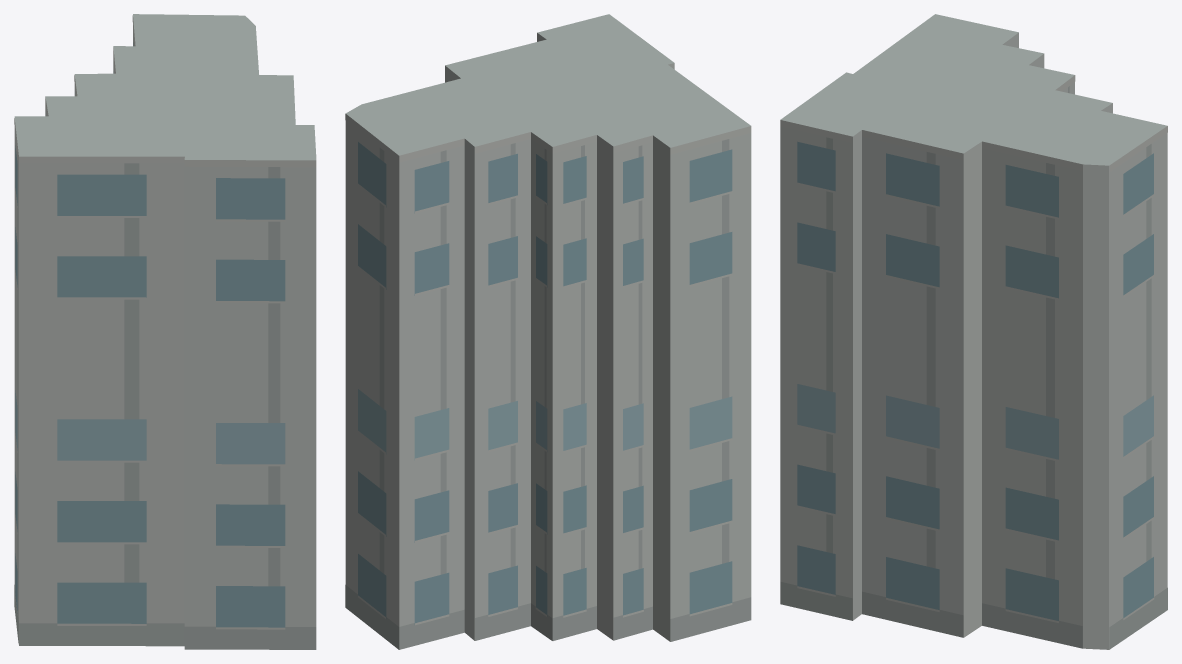
Rendered from survey-upis-32958713.glb.
3 renders of one model, left to right at view 1: azimuth 30°, elevation 25°; view 2: azimuth 150°, elevation 25°; view 3: azimuth 270°, elevation 25°, orthographic. The views are drawn at different scales.
Visible parts, largest first — view 1: survey-upis-32958713.tmp; view 2: survey-upis-32958713.tmp; view 3: survey-upis-32958713.tmp.
Part boxes in pixels (box(x1,y1,x2,y2)): survey-upis-32958713.tmp: box(14, 14, 316, 649); survey-upis-32958713.tmp: box(345, 14, 751, 649); survey-upis-32958713.tmp: box(780, 14, 1167, 649).
Bounding box in the file's own units: 11.62 × 17.3 × 12.56.
